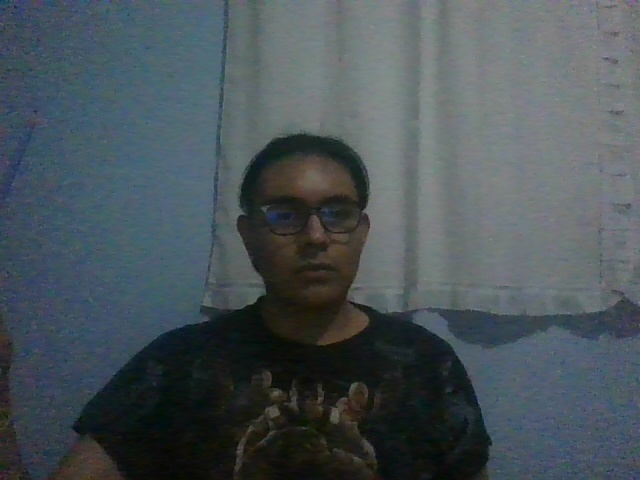lapiz: (1, 109, 37, 203)
